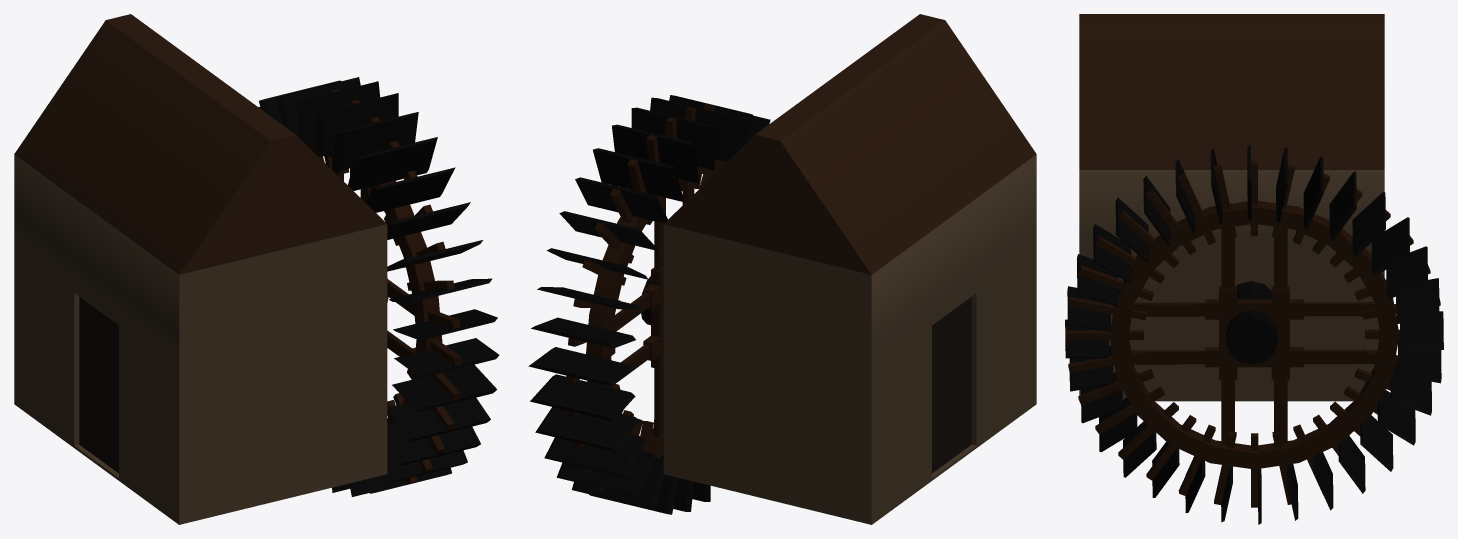
The model's file is WaterMill2.fbx.
The picture shows the model from 3 angles, left to right: view 1: azimuth 30°, elevation 25°; view 2: azimuth 150°, elevation 25°; view 3: azimuth 270°, elevation 25°; orthographic projection. The views are drawn at different scales.
Parts seen in each view (by area): view 1: WaterMillHouse1, pasted__WaterMill_2; view 2: WaterMillHouse1, pasted__WaterMill_2; view 3: WaterMillHouse1, pasted__WaterMill_2.
Boxes of the visible parts, left/top/right/bottom form: WaterMillHouse1: left=14, top=14, right=387, bottom=524; pasted__WaterMill_2: left=258, top=77, right=499, bottom=496; WaterMillHouse1: left=663, top=14, right=1036, bottom=524; pasted__WaterMill_2: left=528, top=95, right=770, bottom=514; WaterMillHouse1: left=1079, top=14, right=1384, bottom=401; pasted__WaterMill_2: left=1065, top=145, right=1443, bottom=524.
Size of the model in its own units: 22.95 by 31.15 by 26.
